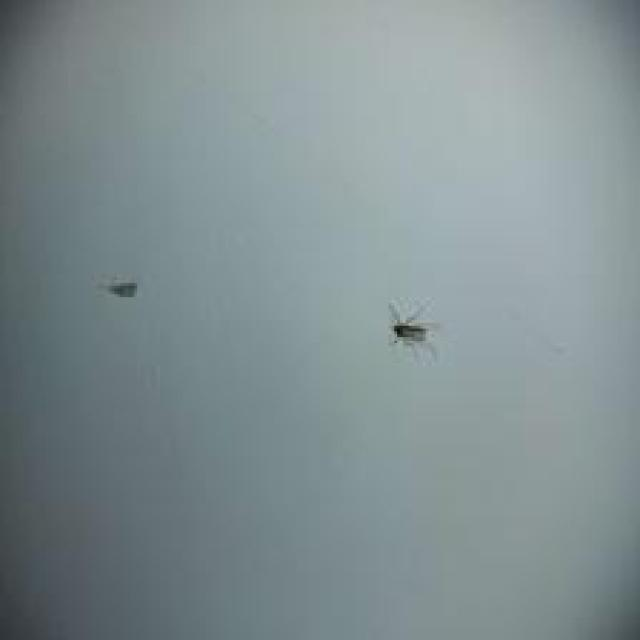Culex: (386, 299, 434, 350)
